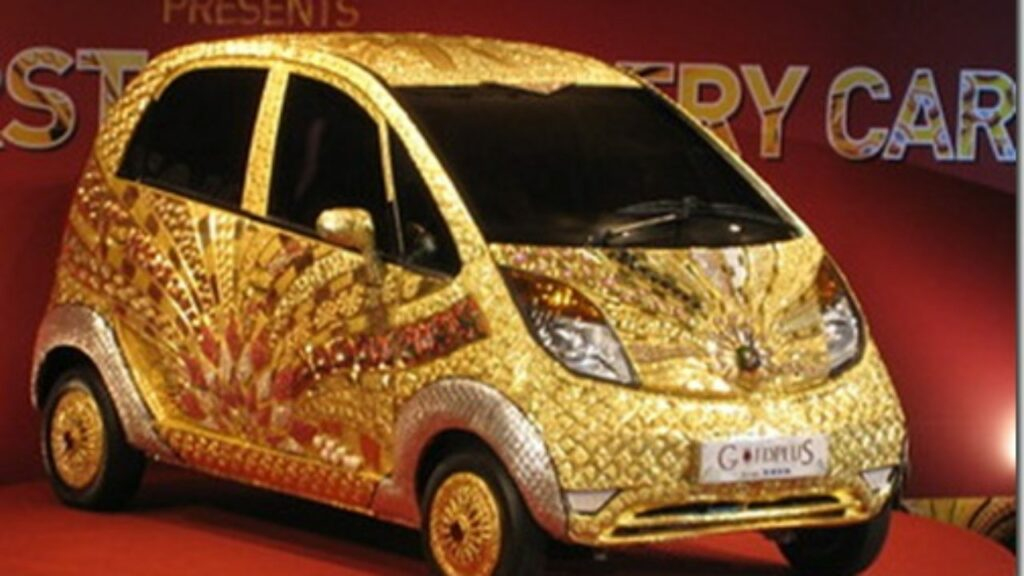Nano: (25, 29, 918, 576)
